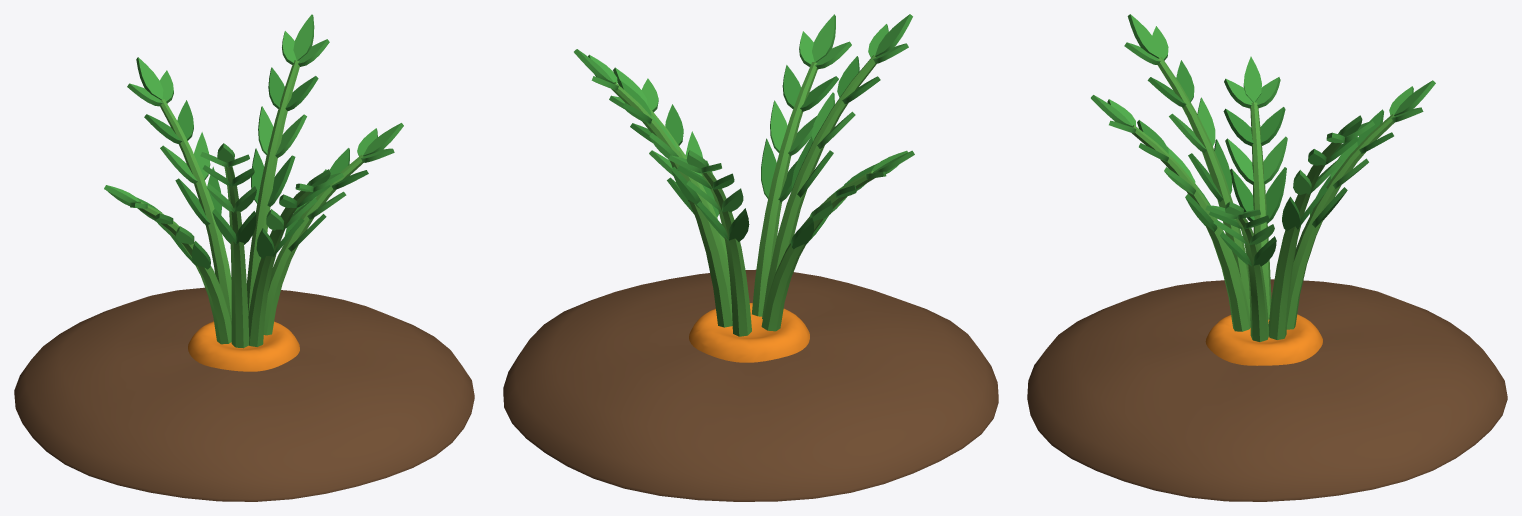
The picture shows the model from 3 angles, left to right: view 1: azimuth 30°, elevation 25°; view 2: azimuth 150°, elevation 25°; view 3: azimuth 270°, elevation 25°; orthographic projection. The views are drawn at different scales.
Parts seen in each view (by area): view 1: body; view 2: body; view 3: body.
Boxes of the visible parts, <box> form: body: <box>14,14,474,501</box>; body: <box>503,14,998,501</box>; body: <box>1027,14,1507,501</box>.
Bounding box in the file's own units: 0.26 × 0.2047 × 0.26.
Materials: 1 (1 with a texture image).
